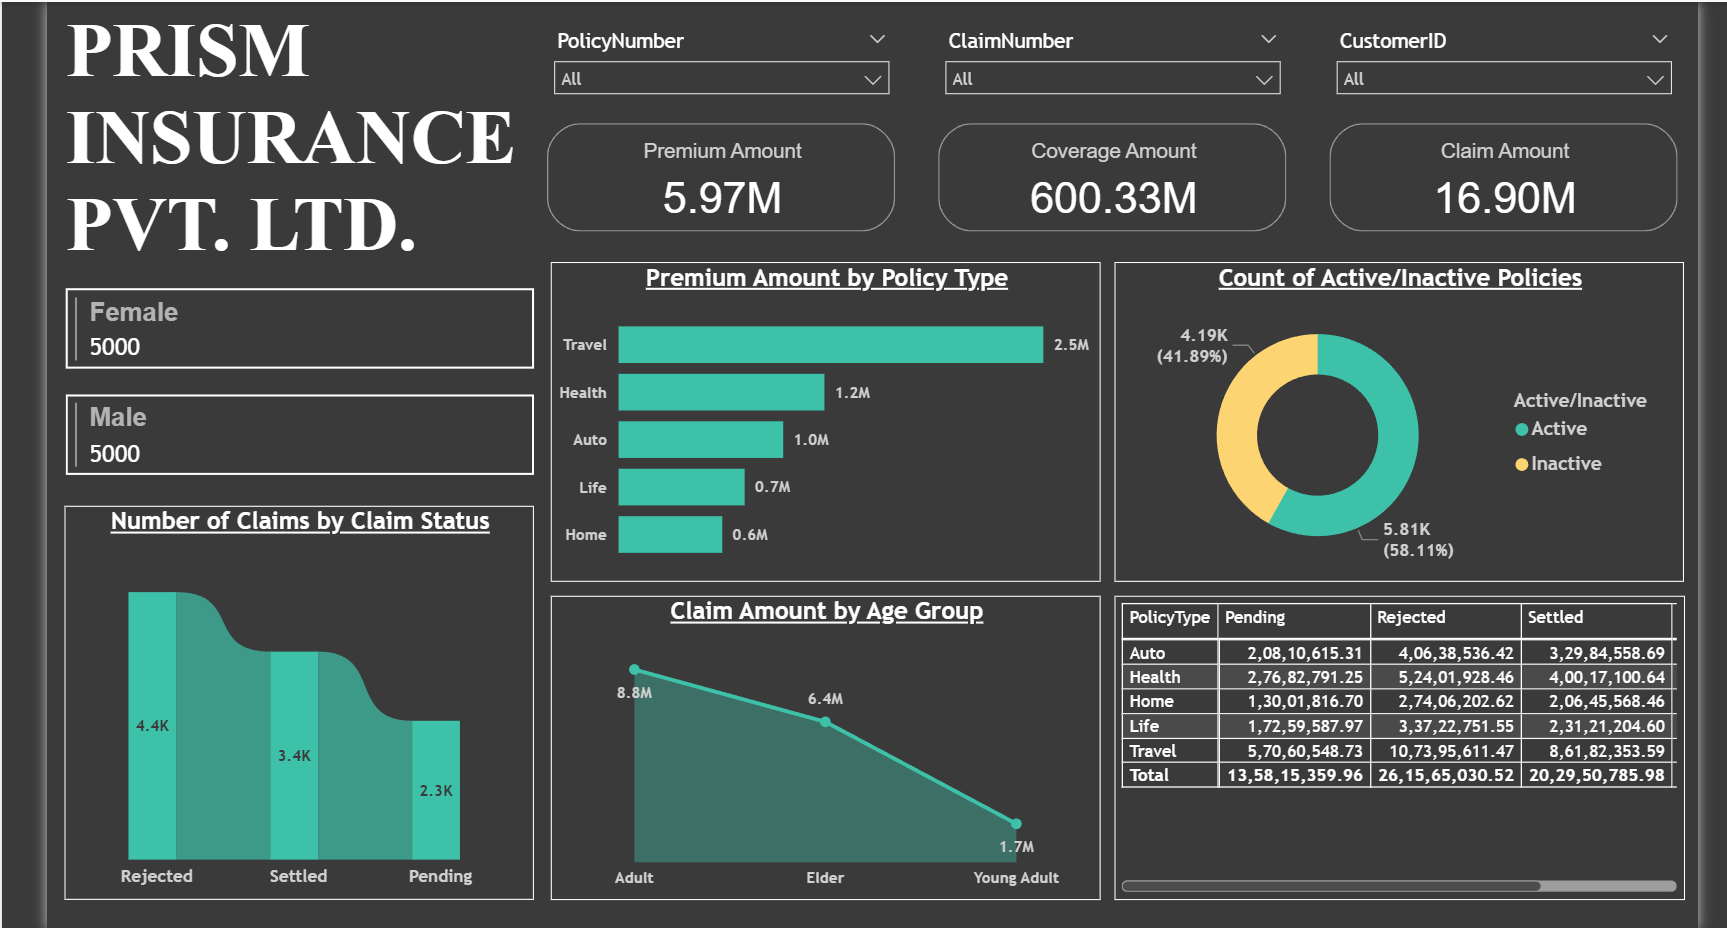

The page's visual inventory and layout, read from the dashboard file:
{"tool":"powerbi","page":{"name":"Page 1","canvas":[1280,720],"ordinal":0},"visuals":[{"type":"slicer","fields":{"Values":["insurancedb insurancedata.ï»¿PolicyNumber"]},"box":[382.6,15.1,280.2,74.4],"z":0},{"type":"slicer","fields":{"Values":["insurancedb insurancedata.ClaimNumber"]},"box":[686,15.1,280.2,74.4],"z":1000},{"type":"slicer","fields":{"Values":["insurancedb insurancedata.CustomerID"]},"box":[989.5,15.1,280.2,74.4],"z":2000},{"type":"textbox","box":[9.3,0,373.3,217.4],"z":3000},{"type":"cardVisual","fields":{"Data":["Sum(insurancedb insurancedata.PremiumAmount)"]},"box":[382.6,89.5,280.2,94.2],"z":4000},{"type":"cardVisual","fields":{"Data":["Sum(insurancedb insurancedata.CoverageAmount)"]},"box":[686,89.5,280.2,94.2],"z":5000},{"type":"cardVisual","fields":{"Data":["Sum(insurancedb insurancedata.ClaimAmount)"]},"box":[989.5,89.5,280.2,94.2],"z":6000},{"type":"multiRowCard","fields":{"Values":["insurancedb insurancedata.Gender","CountNonNull(insurancedb insurancedata.Gender)"]},"box":[9.3,217.4,373.3,181.4],"z":7000},{"type":"ribbonChart","title":"Number of Claims by Claim Status ","fields":{"Category":["insurancedb insurancedata.ClaimStatus"],"Y":["CountNonNull(insurancedb insurancedata.ClaimStatus)"]},"box":[14,390.7,364,305.8],"z":8000},{"type":"barChart","title":"Premium Amount by Policy Type","fields":{"Category":["insurancedb insurancedata.PolicyType"],"Y":["Sum(insurancedb insurancedata.PremiumAmount)"]},"box":[390.7,201.2,426.7,247.7],"z":9000},{"type":"lineChart","title":"Claim Amount by Age Group","fields":{"Category":["insurancedb insurancedata.Age Group"],"Y":["Sum(insurancedb insurancedata.ClaimAmount)"]},"box":[390.7,460.5,426.7,236],"z":10000},{"type":"donutChart","title":"Count of Active/Inactive Policies","fields":{"Category":["insurancedb insurancedata.Active/Inactive"],"Y":["CountNonNull(insurancedb insurancedata.Active/Inactive)"]},"box":[827.9,201.2,441.9,247.7],"z":11000},{"type":"pivotTable","fields":{"Values":["Sum(insurancedb insurancedata.CoverageAmount)"],"Rows":["insurancedb insurancedata.PolicyType"],"Columns":["insurancedb insurancedata.ClaimStatus"]},"box":[828,460,442,236],"z":12000}]}

Visuals, with their boxes on the page's 1280x720 design canvas (x1, y1, x2, y2). These are canvas units, not pixel positions in the 1727x928 screenshot, which may show the page scaled, cropped or inside an application window:
slicer - insurancedb insurancedata.ï»¿PolicyNumber: [x1=383, y1=15, x2=663, y2=90]
slicer - insurancedb insurancedata.ClaimNumber: [x1=686, y1=15, x2=966, y2=90]
slicer - insurancedb insurancedata.CustomerID: [x1=990, y1=15, x2=1270, y2=90]
textbox: [x1=9, y1=0, x2=383, y2=217]
cardVisual - Sum(insurancedb insurancedata.PremiumAmount): [x1=383, y1=90, x2=663, y2=184]
cardVisual - Sum(insurancedb insurancedata.CoverageAmount): [x1=686, y1=90, x2=966, y2=184]
cardVisual - Sum(insurancedb insurancedata.ClaimAmount): [x1=990, y1=90, x2=1270, y2=184]
multiRowCard - insurancedb insurancedata.Gender x CountNonNull(insurancedb insurancedata.Gender): [x1=9, y1=217, x2=383, y2=399]
"Number of Claims by Claim Status " ribbonChart: [x1=14, y1=391, x2=378, y2=696]
"Premium Amount by Policy Type" barChart: [x1=391, y1=201, x2=817, y2=449]
"Claim Amount by Age Group" lineChart: [x1=391, y1=460, x2=817, y2=696]
"Count of Active/Inactive Policies" donutChart: [x1=828, y1=201, x2=1270, y2=449]
pivotTable - Sum(insurancedb insurancedata.CoverageAmount) x insurancedb insurancedata.PolicyType: [x1=828, y1=460, x2=1270, y2=696]
